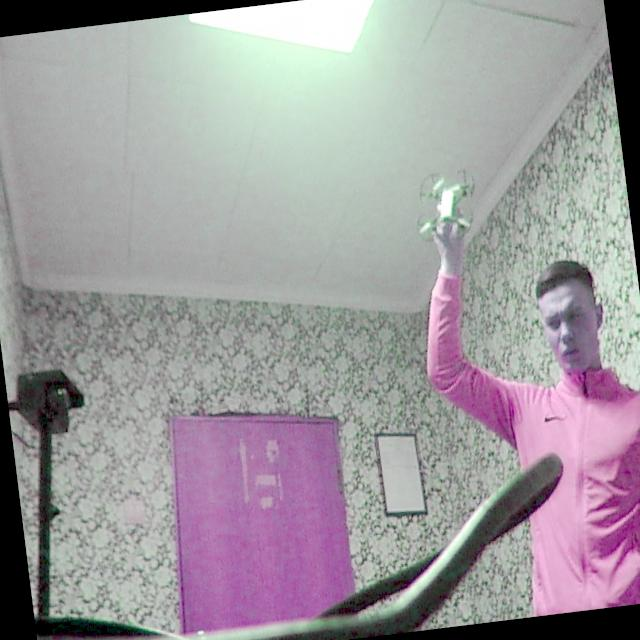drone: (404, 153, 482, 244)
